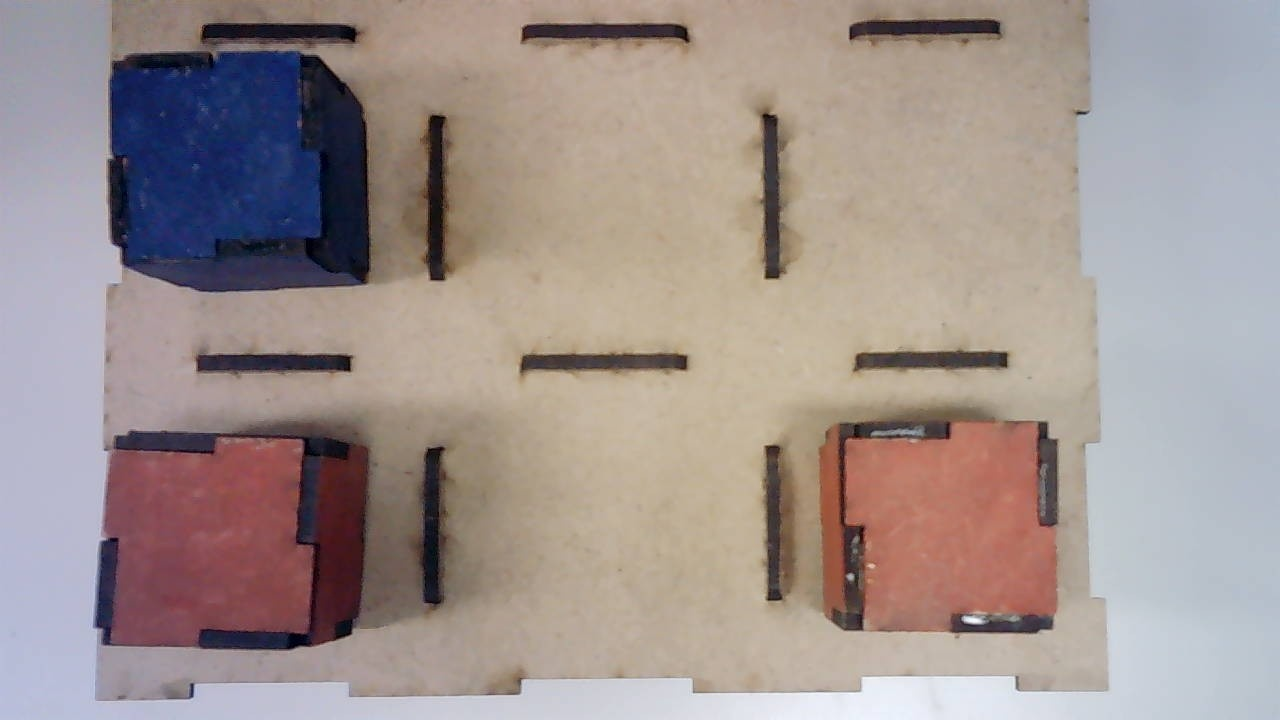blue box: (103, 52, 370, 292)
red box: (90, 427, 365, 651), (819, 415, 1059, 634)
